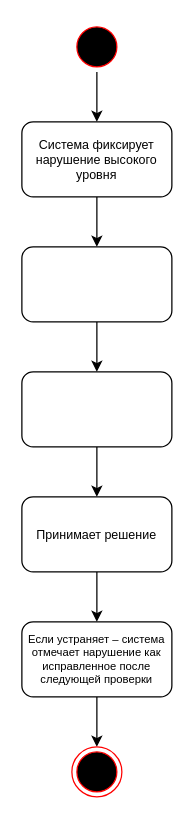
The diagram is 194 pixels wide and 819 high, and some of its shapes have lost their labels. Each missing label, with the centre of its shape:
"Отправляет алерт в Jira" belongs at pixel 96 284.
"Специалист просматривает нарушение в веб-интерфейсе" belongs at pixel 96 409.
